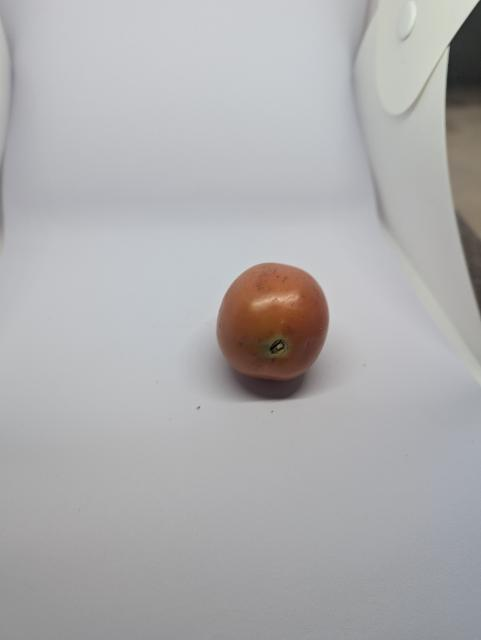red: (205, 246, 356, 403)
